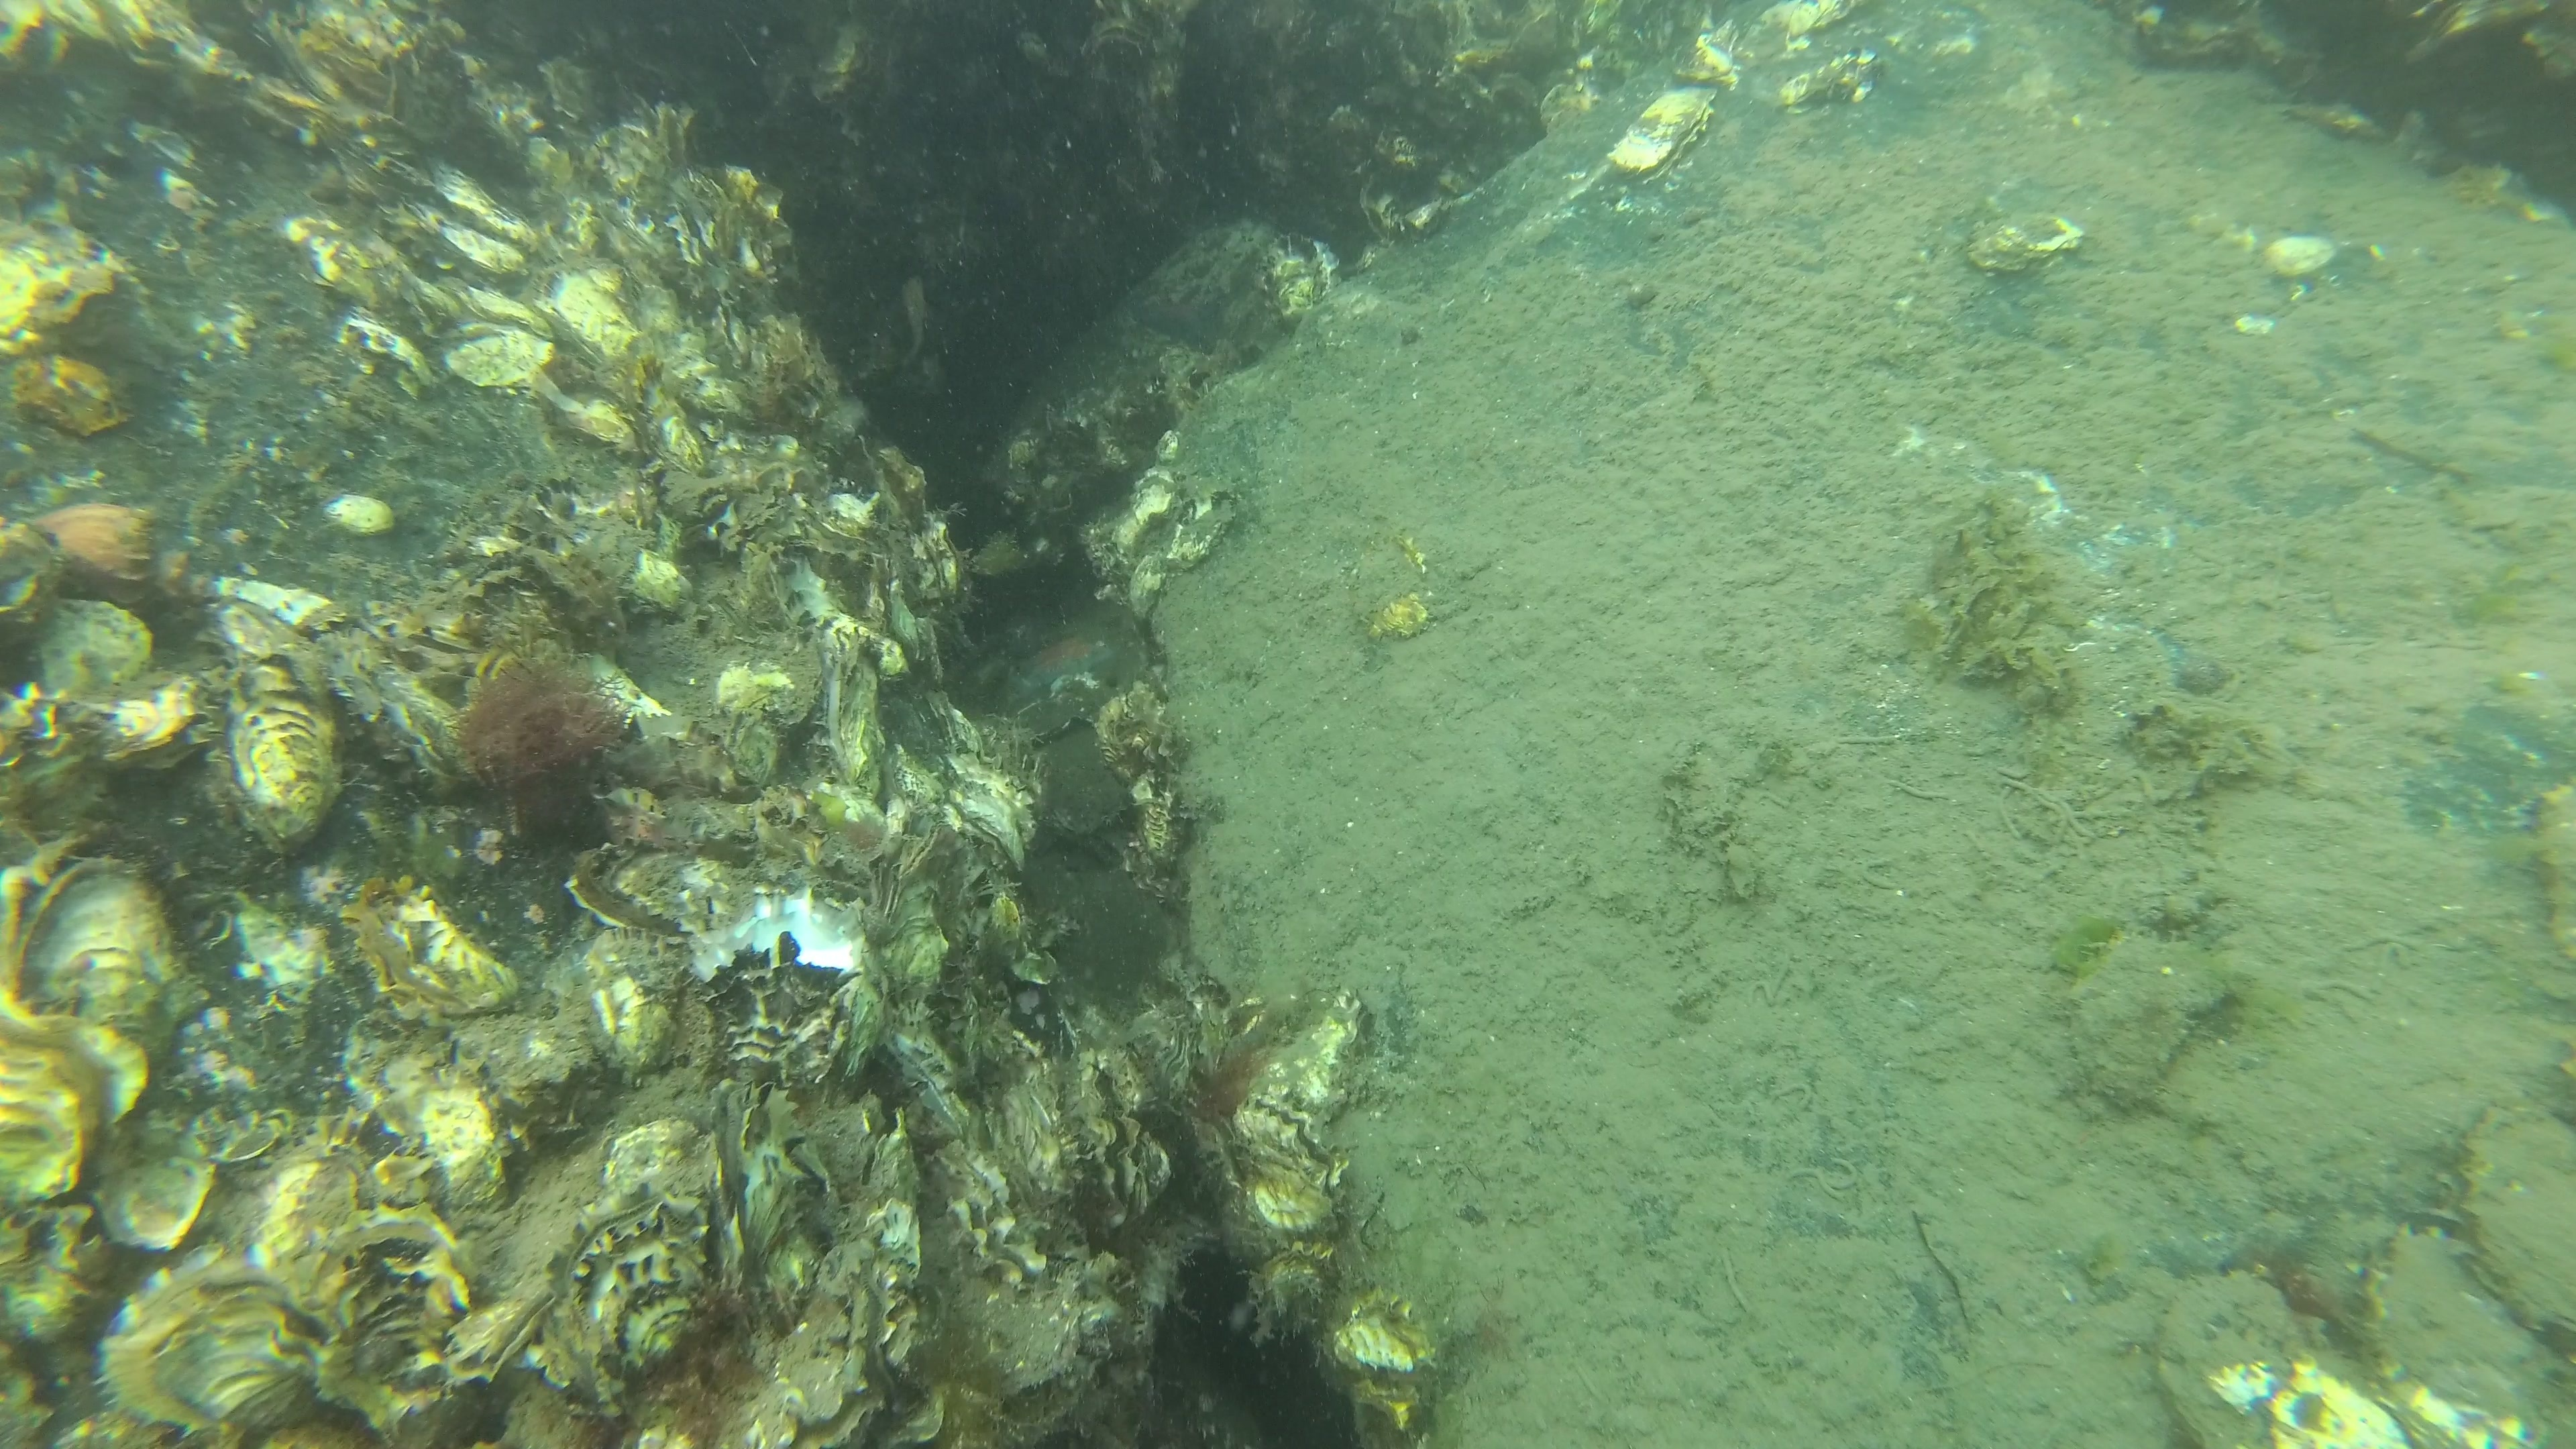starfish: (1014, 633, 1115, 695), (1138, 288, 1226, 345)
